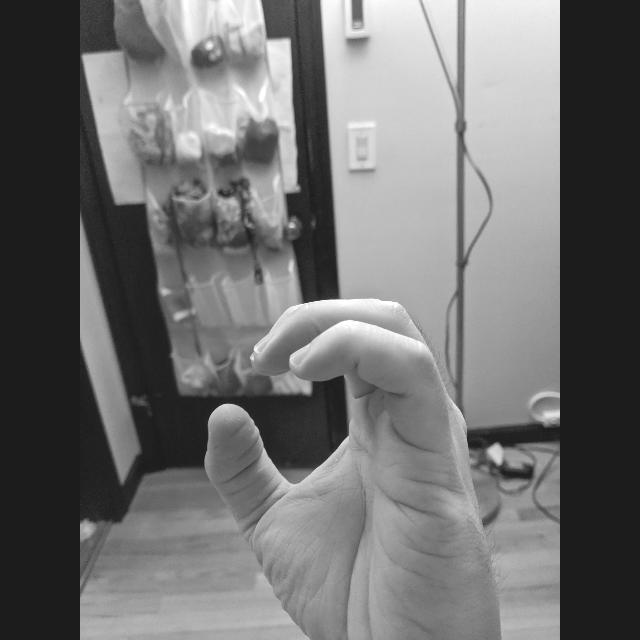C: (196, 292, 507, 640)
